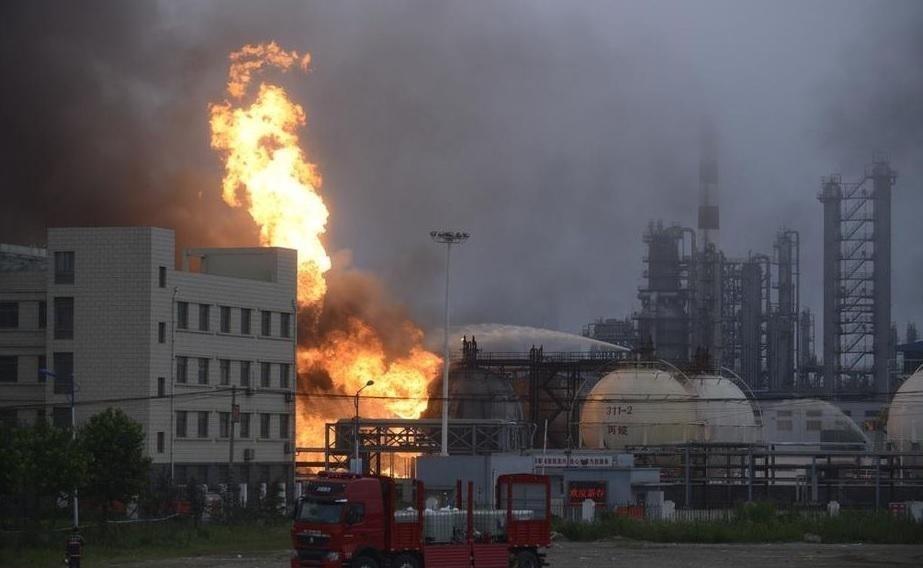fire: (208, 36, 333, 301), (292, 319, 443, 475)
